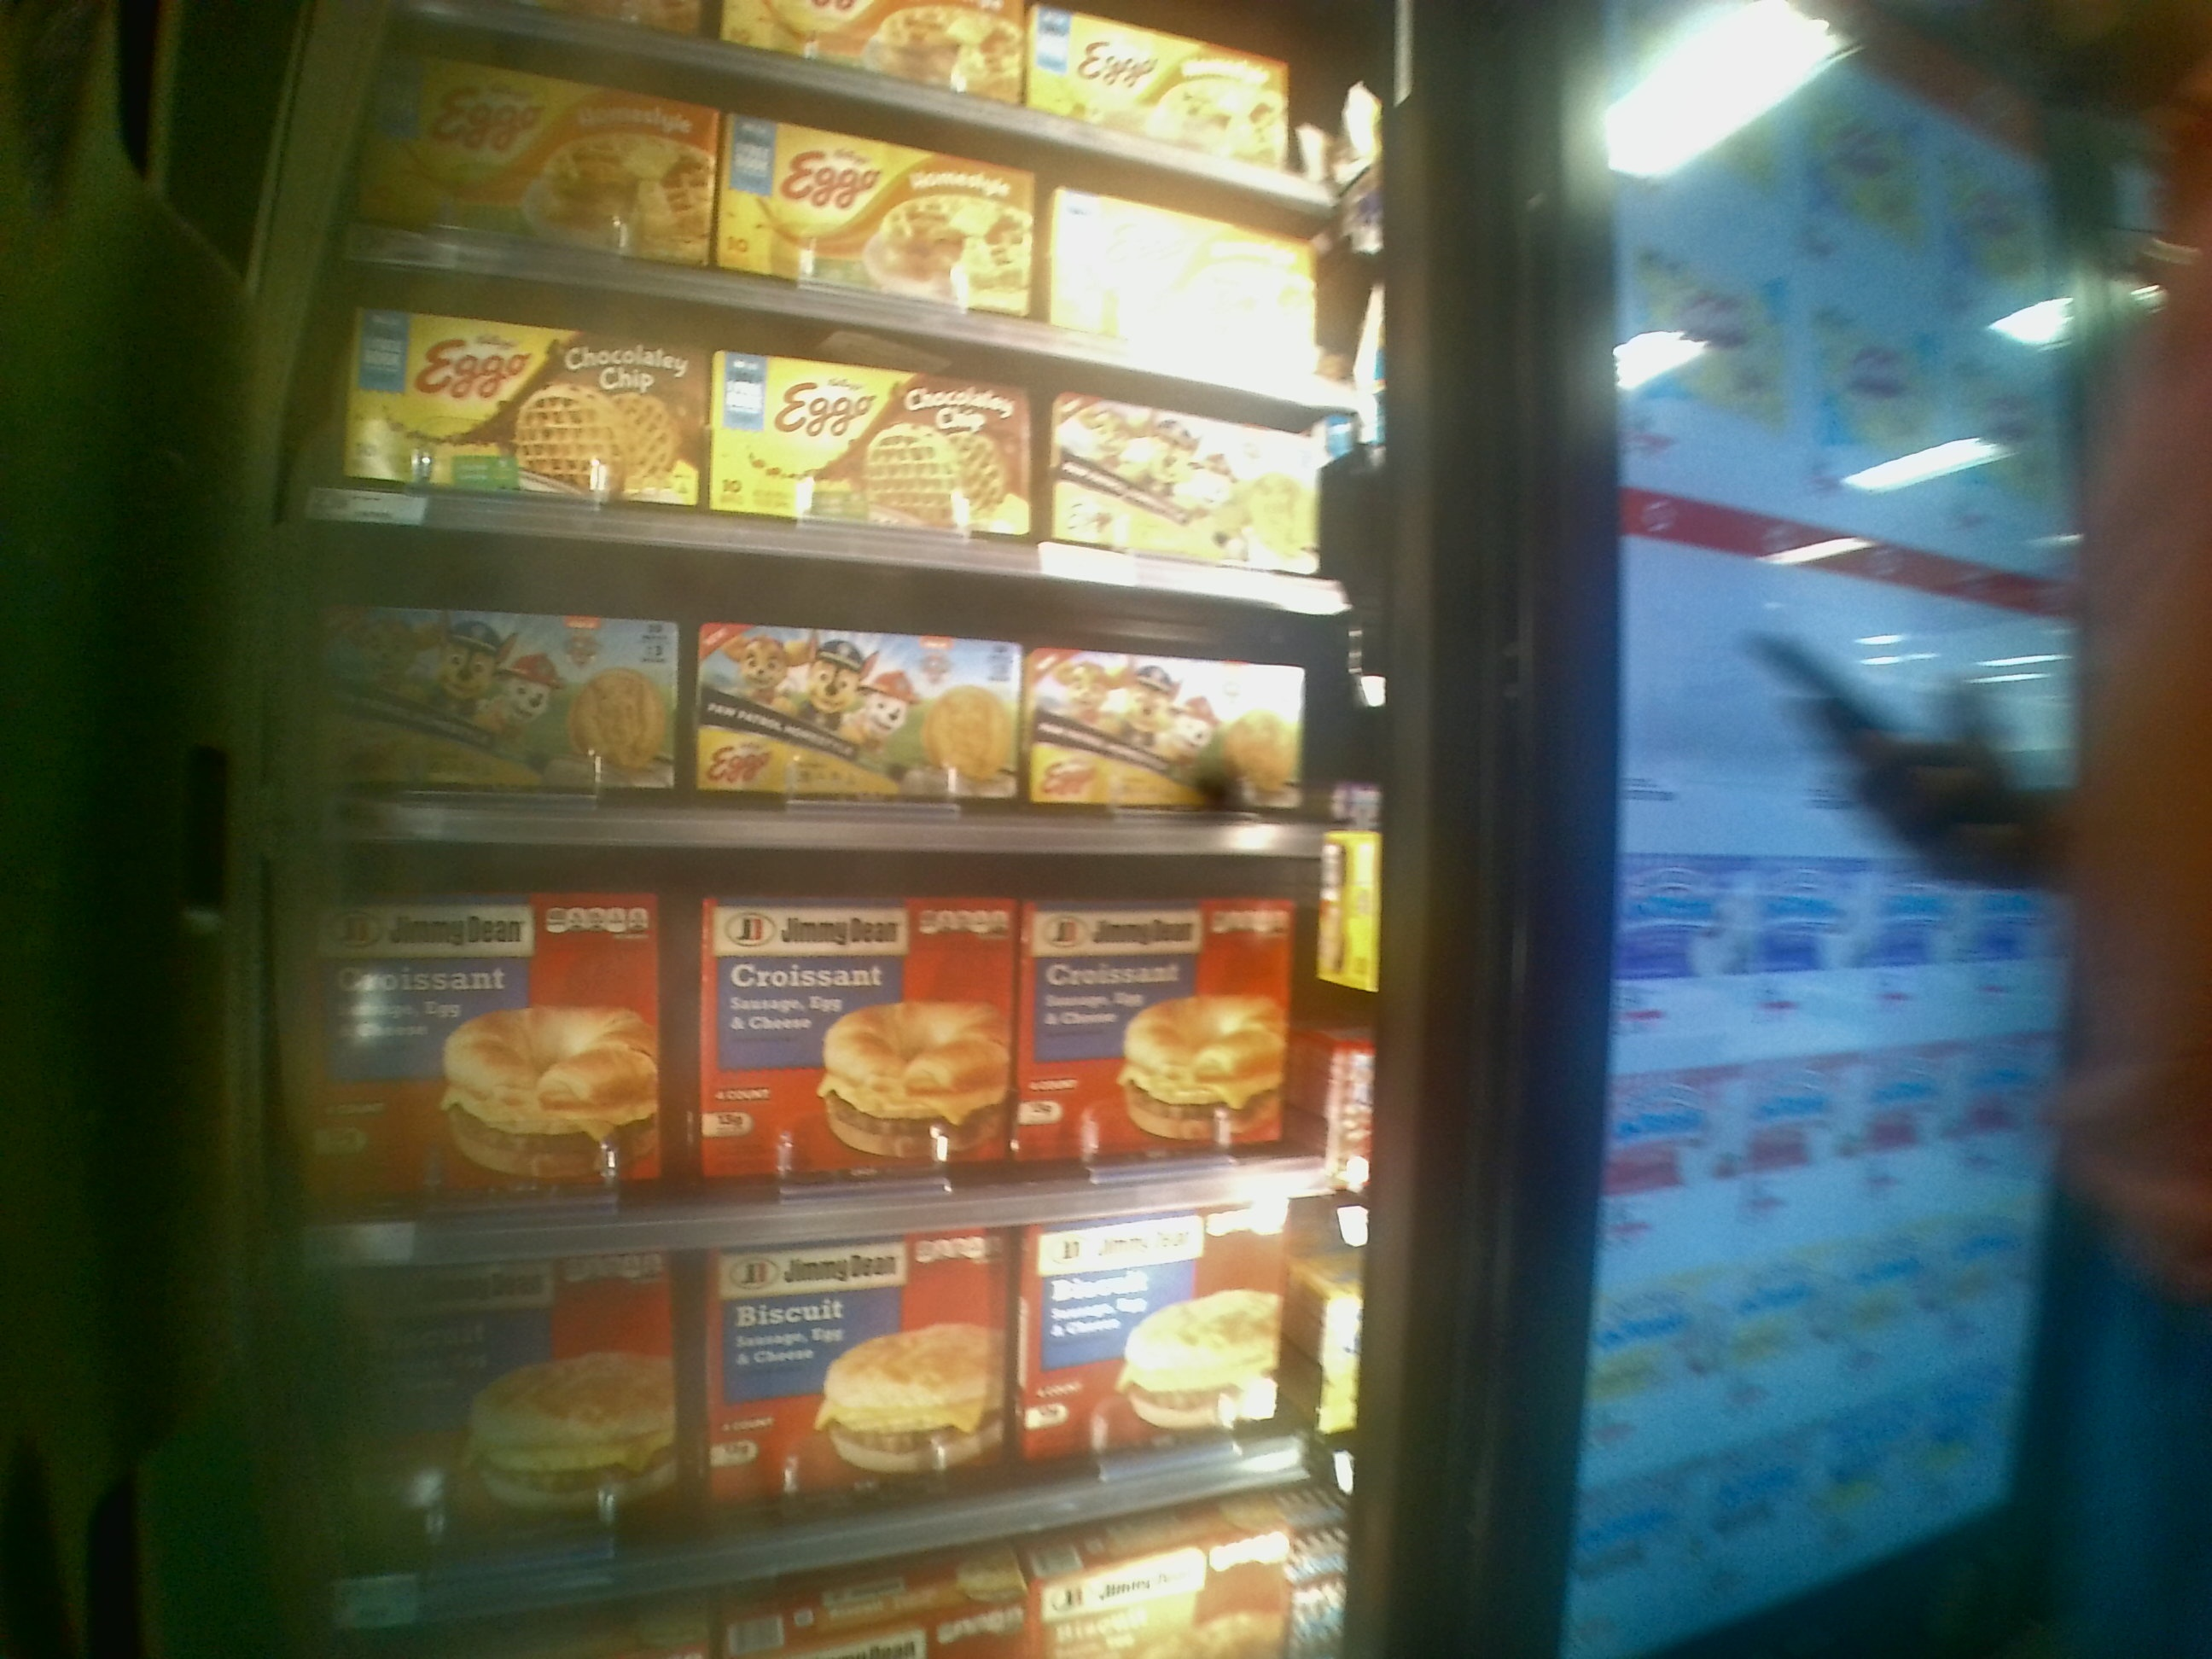shelf: (279, 1202, 1367, 1638), (282, 836, 1364, 1260), (334, 247, 1372, 603), (296, 512, 1371, 849)
